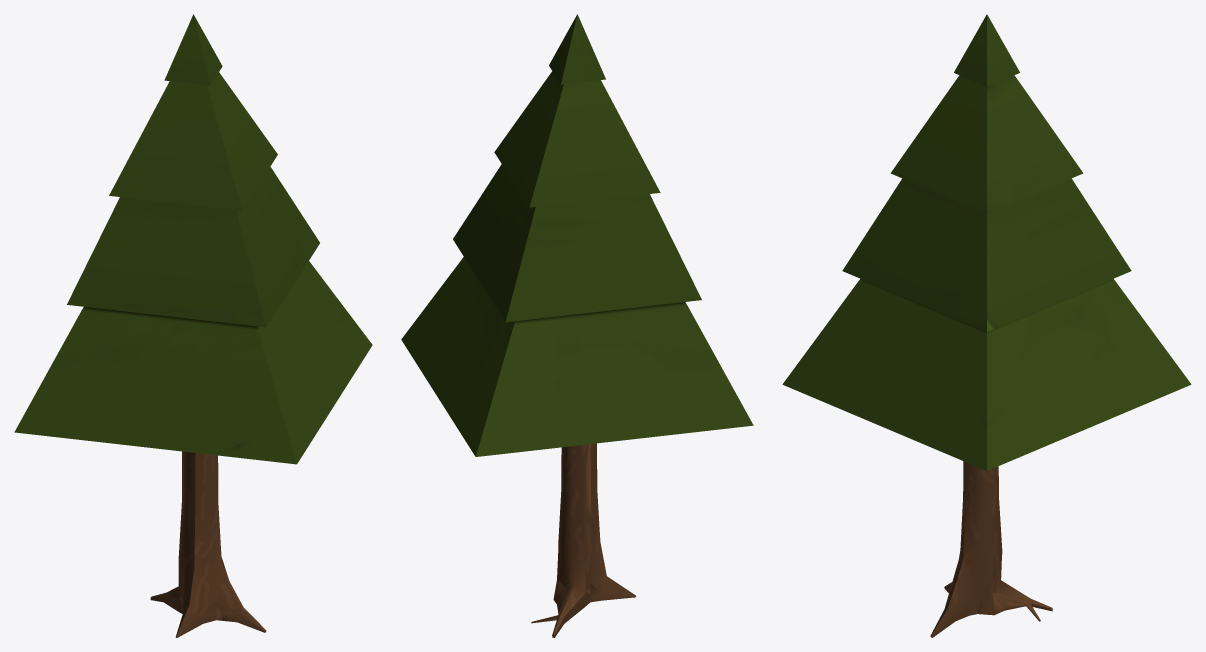
The model's file is sapin.fbx.
3 renders of one model, left to right at view 1: azimuth 30°, elevation 25°; view 2: azimuth 150°, elevation 25°; view 3: azimuth 270°, elevation 25°, orthographic.
Visible parts, largest first — view 1: épines_Sapin, tronc2; view 2: épines_Sapin, tronc2; view 3: épines_Sapin, tronc2.
Part boxes in pixels (bbox=[...]): épines_Sapin: bbox=[14, 14, 372, 464]; tronc2: bbox=[150, 451, 266, 637]; épines_Sapin: bbox=[401, 14, 753, 456]; tronc2: bbox=[531, 443, 636, 637]; épines_Sapin: bbox=[782, 14, 1191, 470]; tronc2: bbox=[930, 461, 1052, 637].
Size of the model in its own units: 12.68 by 20.61 by 12.68.
1 material, 1 textured.
